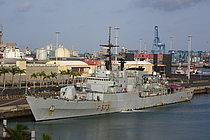MIL_Ship: (25, 60, 195, 119)
